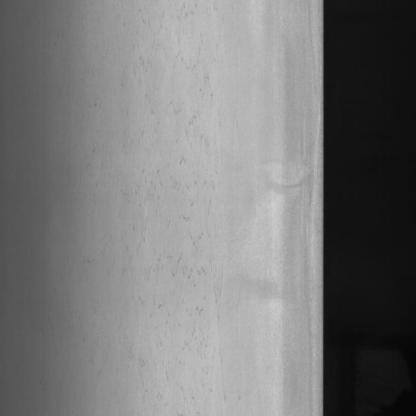silk_spot: (113, 18, 228, 394)
